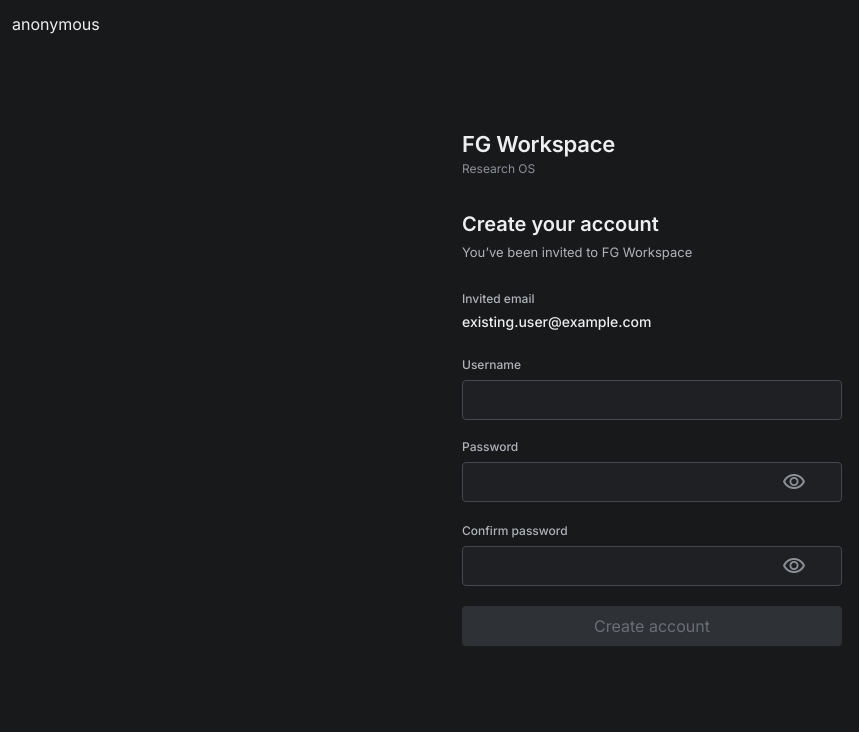
Test: RegistrationPage › maps a backend password error to the password field
The width and height of the screenshot is (859, 732).
Step 1. Type "newbie" into the field labelled "Username" → coordinates (652, 400), box x1=462 y1=380 x2=842 y2=420
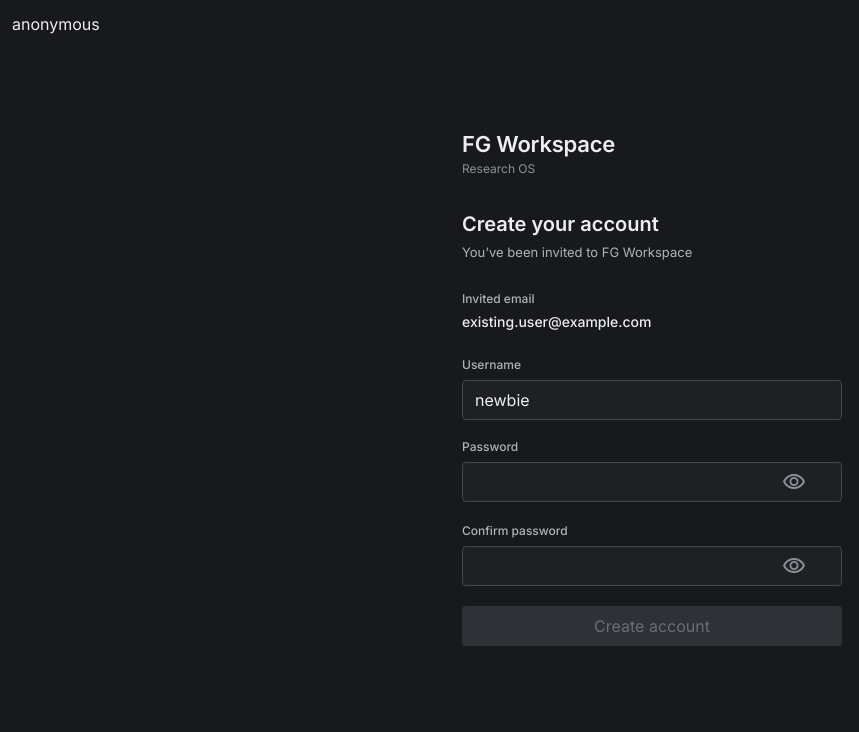
Step 2. Type "Passw0rd!x" into the password field labelled "Password" → coordinates (652, 482), box x1=462 y1=462 x2=842 y2=502
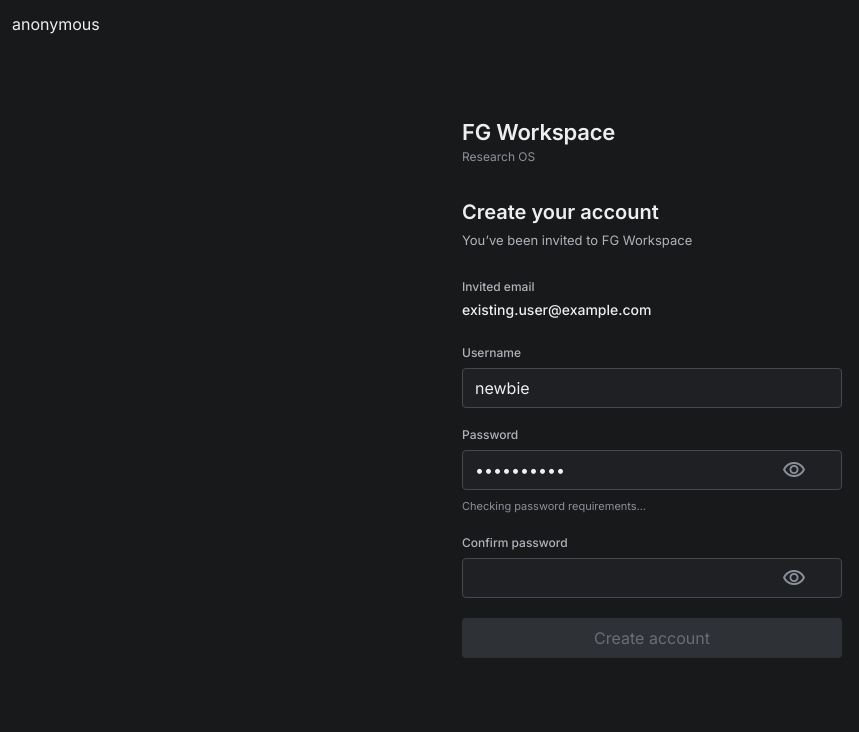
Step 3. Type "Passw0rd!x" into the password field labelled "Confirm password" → coordinates (652, 578), box x1=462 y1=558 x2=842 y2=598
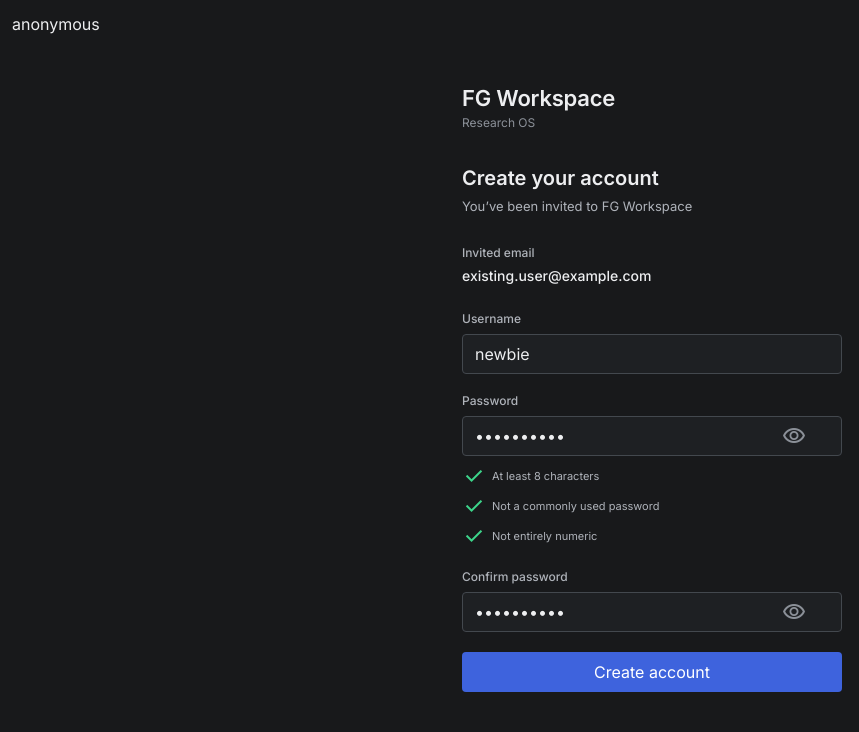
Check: the button "Create account" is enabled
Step 4. Click the button "Create account" → coordinates (652, 672), box x1=462 y1=652 x2=842 y2=692
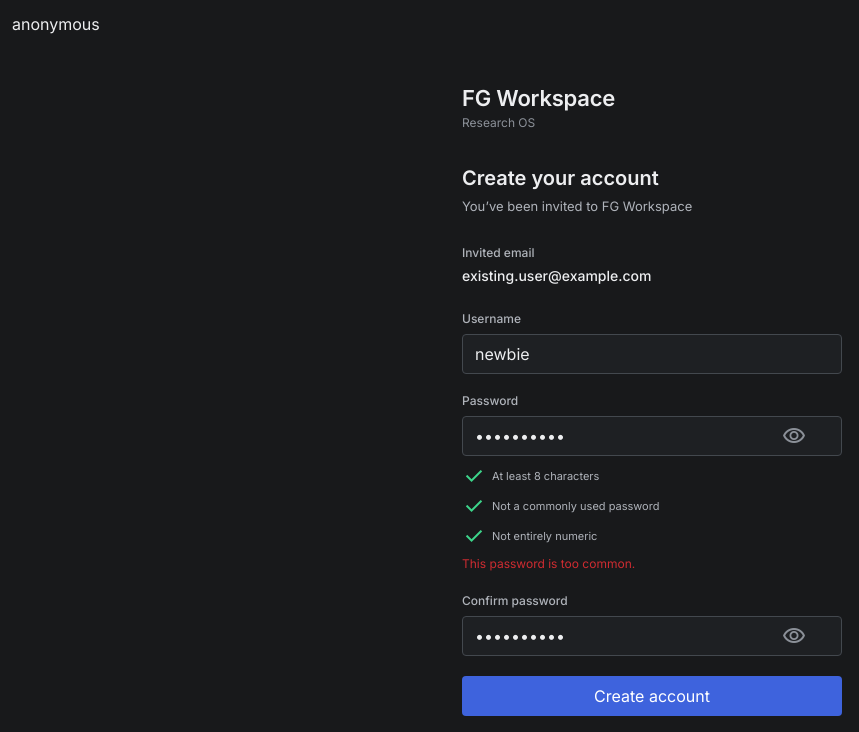
Check: the message reads "This password is too common.", box x1=462 y1=556 x2=635 y2=571
